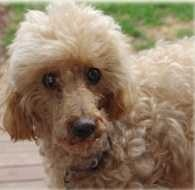dog: (0, 0, 167, 189)
